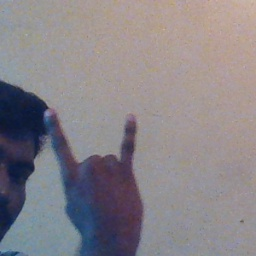V: (37, 100, 154, 240)
